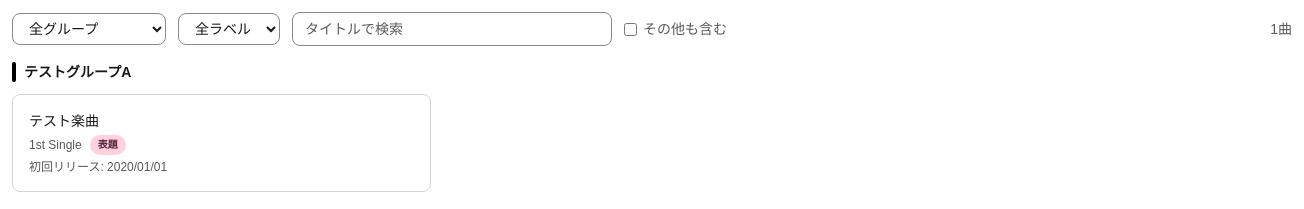
Test: SongBrowser のEmpty分岐 › resetを押すと表示が復帰し、filter stateが既定へ戻る
Select "選抜" in the dropdown named "ラベルで絞り込み". click: [229, 29]
box: [178, 13, 280, 45]
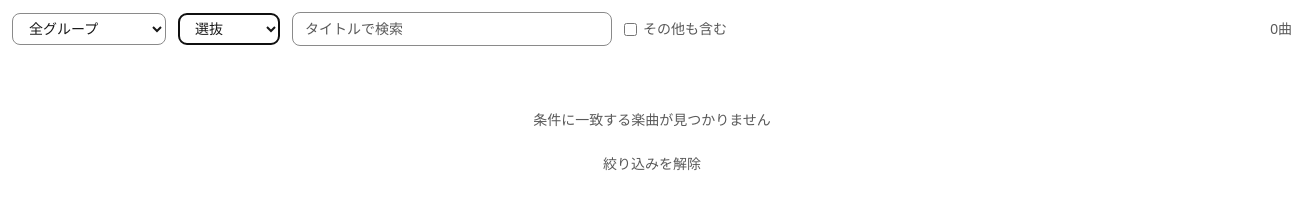
Expected: the button "絞り込みを解除" is shown
Click the button "絞り込みを解除". click: [652, 164]
box: [587, 142, 717, 186]
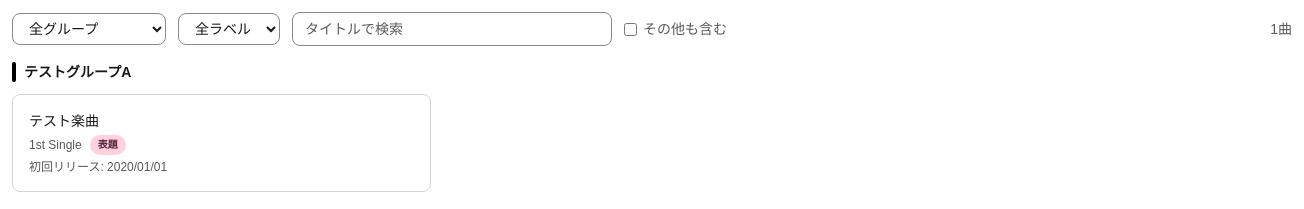
Expected: the text "条件に一致する楽曲が見つかりません" is gone
Expected: the text "テスト楽曲" is shown, [29, 113, 99, 129]
